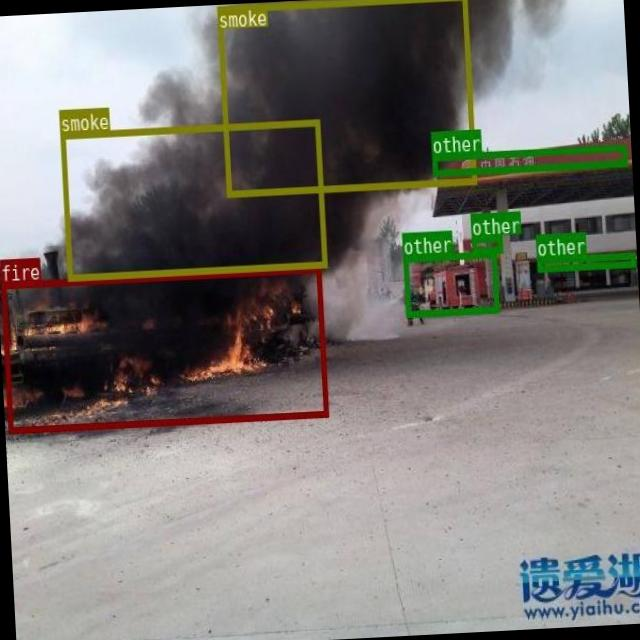fire: (1, 266, 328, 432)
smoke: (216, 0, 476, 196), (60, 119, 326, 279)
